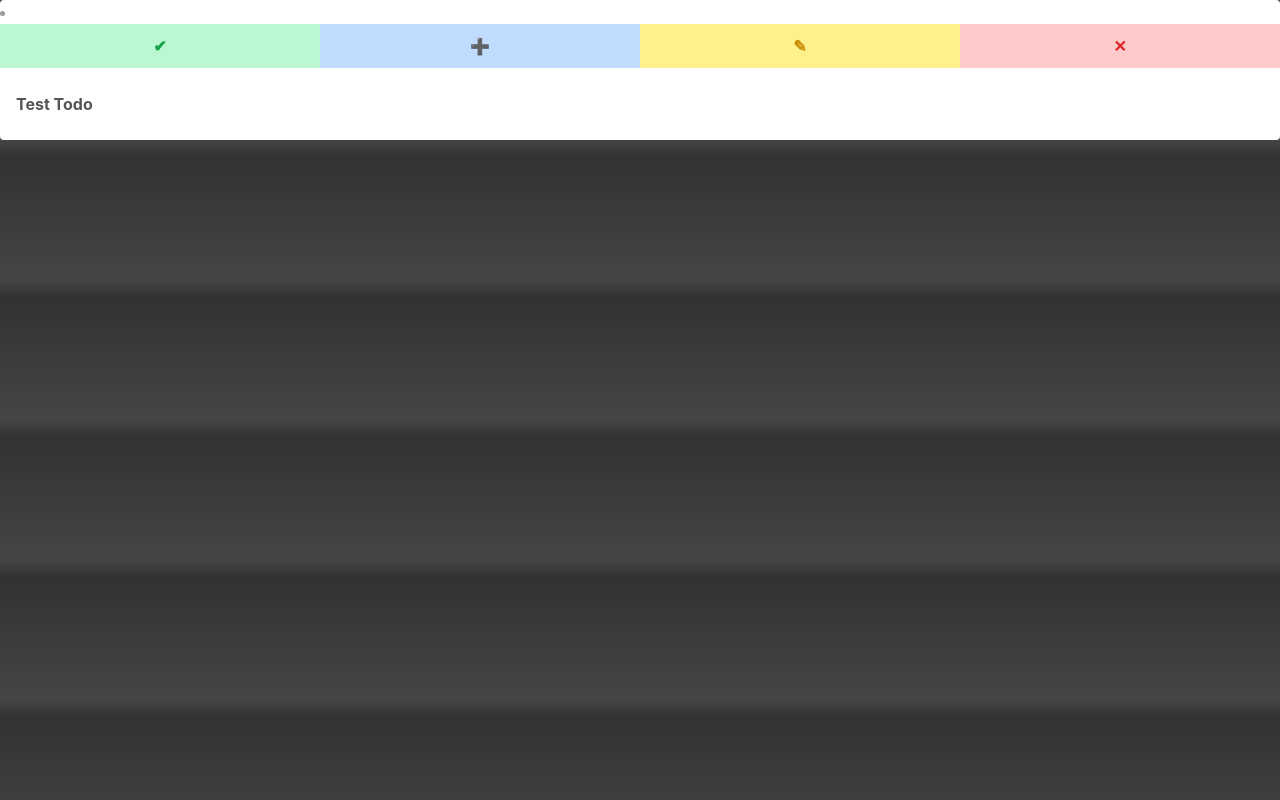
Test: TodoItem Component › opens and closes delete modal
Click the button with test id "delete-todo-btn-0" at (1120, 46), box [960, 24, 1279, 68]
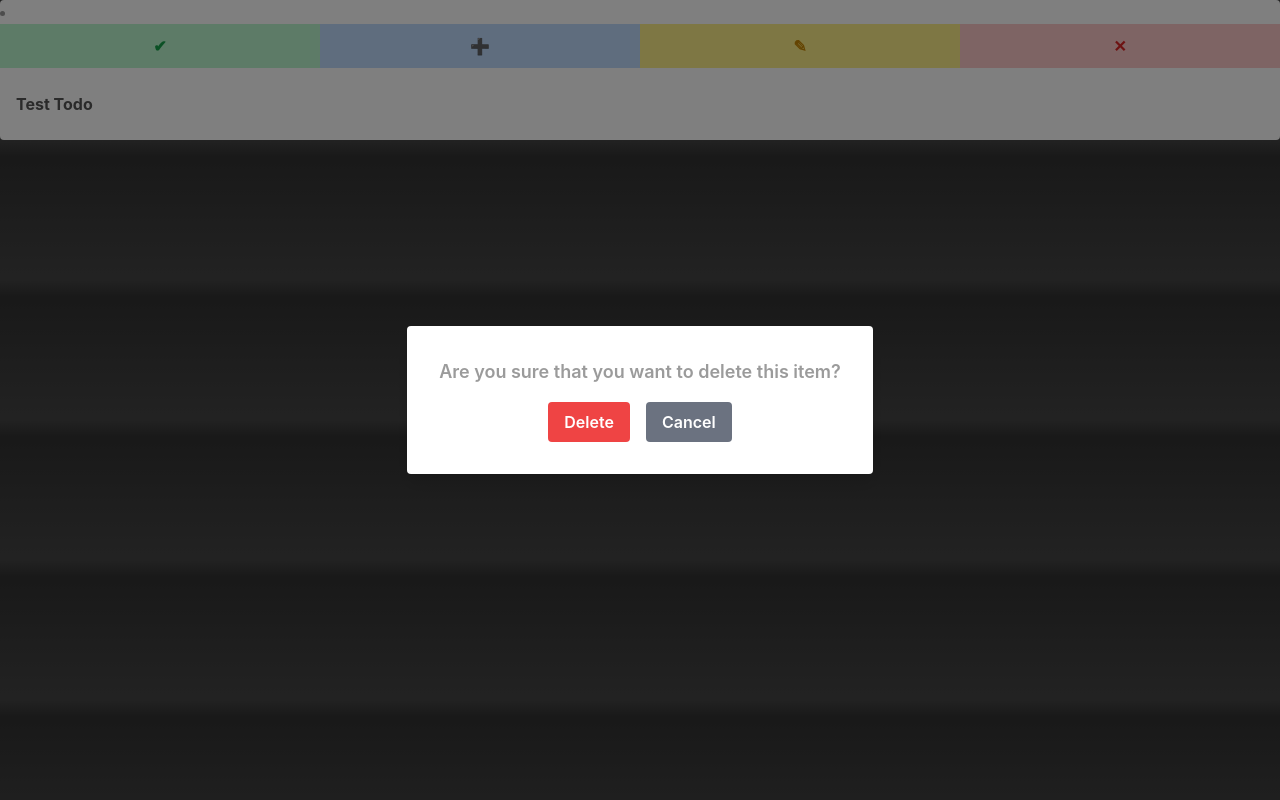
expect the text "Are you sure that you want to delete this item?" is shown: met, box [439, 358, 841, 386]
Click the button "Cancel" at (689, 422), box [646, 402, 732, 442]
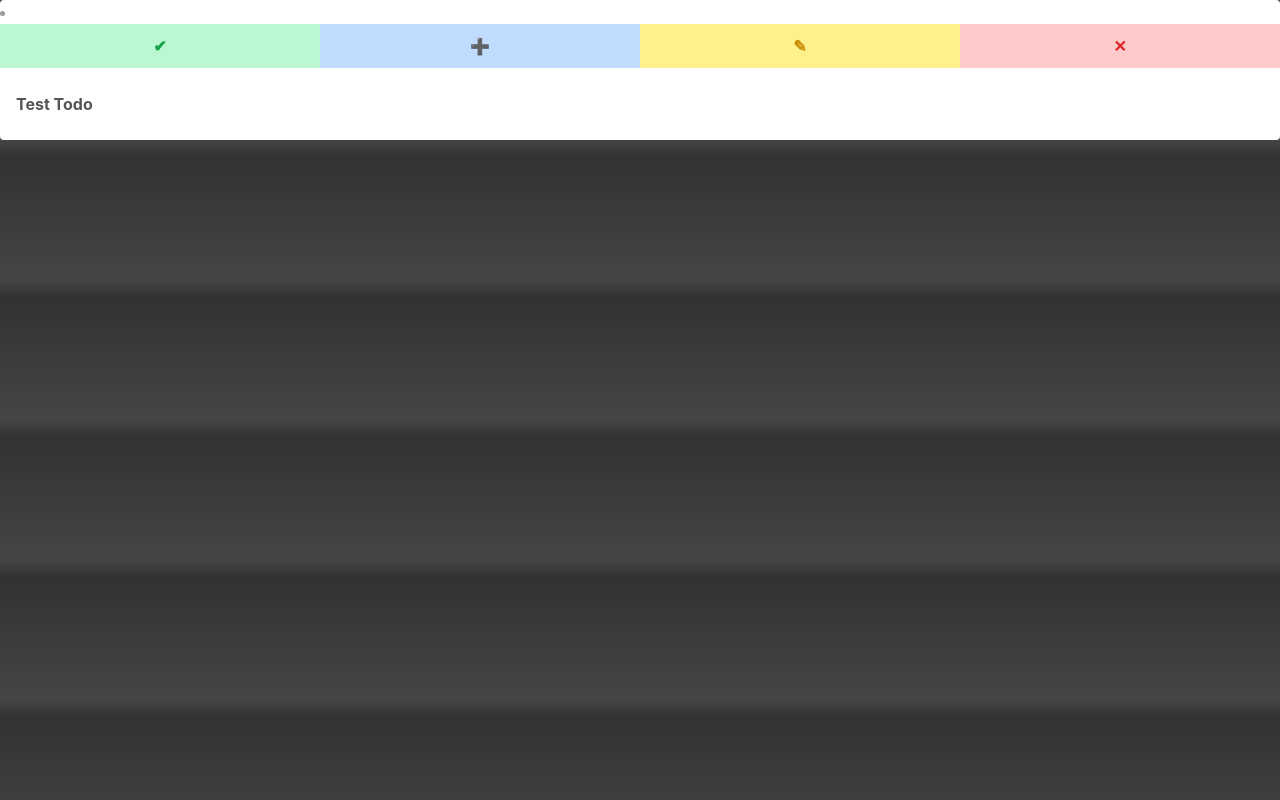
expect the text "Are you sure that you want to delete this item?" is gone: met
